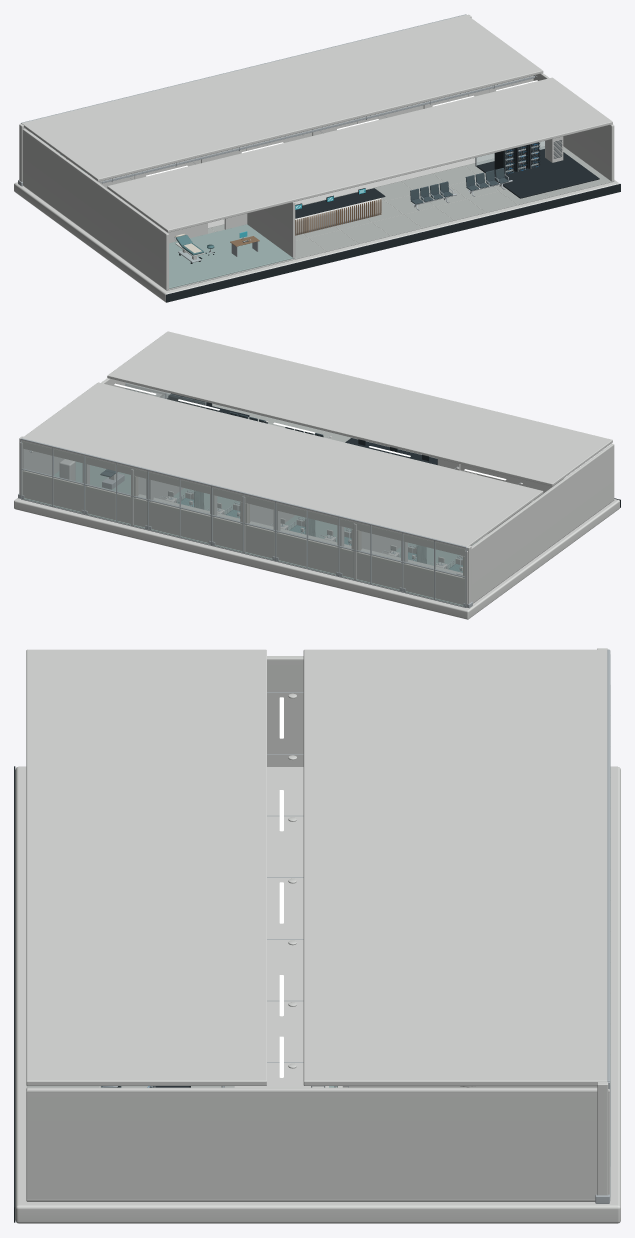
File: hospital-walkthrough.glb
The picture shows the model from 3 angles, top to bottom: view 1: azimuth 30°, elevation 25°; view 2: azimuth 150°, elevation 25°; view 3: azimuth 270°, elevation 25°; orthographic projection. The views are drawn at different scales.
Visible parts, largest first — view 1: Ceiling__chalk, Architecture__chalk, Architecture__stone, Architecture__dark, Architecture__resin, Furniture-context__wood, Data__metal, Furniture-context__chalk, Furniture-context__upholstery, Furniture-context__dark, Data__dark, Architecture__metal (+1 smaller); view 2: Ceiling__chalk, Architecture__glass, Architecture__chalk, Architectural-detail__interior-paint, Architecture__metal, Architecture__resin, Architectural-detail__clinical-polymer, Architecture__stone, Clinical-context__clinical-polymer, Furniture-context__chalk, Architectural-detail__interior-curtain, Furniture-context__dark (+3 smaller); view 3: Ceiling__chalk, Architecture__chalk, Architecture__metal, Ceiling__light, Architecture__dark.
Boxes of the visible parts, x1,y1,x2,y2 form: Ceiling__chalk: (21, 14, 612, 232); Architecture__chalk: (14, 14, 619, 302); Architecture__stone: (168, 146, 612, 290); Architecture__dark: (166, 149, 620, 302); Architecture__resin: (82, 170, 293, 288); Furniture-context__wood: (230, 199, 381, 246); Data__metal: (99, 75, 536, 183); Furniture-context__chalk: (86, 173, 381, 235); Furniture-context__upholstery: (410, 168, 508, 204); Furniture-context__dark: (295, 188, 385, 218); Data__dark: (494, 142, 540, 173); Architecture__metal: (18, 14, 512, 210); Ceiling__chalk: (21, 331, 612, 549); Architecture__glass: (21, 383, 465, 605); Architecture__chalk: (14, 378, 619, 619); Architectural-detail__interior-paint: (22, 441, 465, 604); Architecture__metal: (18, 383, 472, 608); Architecture__resin: (21, 461, 478, 606); Architectural-detail__clinical-polymer: (138, 494, 462, 573); Architecture__stone: (28, 392, 461, 606); Clinical-context__clinical-polymer: (164, 491, 462, 570); Furniture-context__chalk: (59, 459, 447, 568); Architectural-detail__interior-curtain: (194, 490, 426, 563); Furniture-context__dark: (345, 438, 437, 464); Ceiling__chalk: (26, 649, 607, 1085); Architecture__chalk: (15, 648, 620, 1223); Architecture__metal: (102, 649, 610, 1203); Ceiling__light: (279, 697, 283, 1077); Architecture__dark: (14, 766, 15, 1222).
Size of the model in its own units: 28.6 by 4.21 by 16.64.
